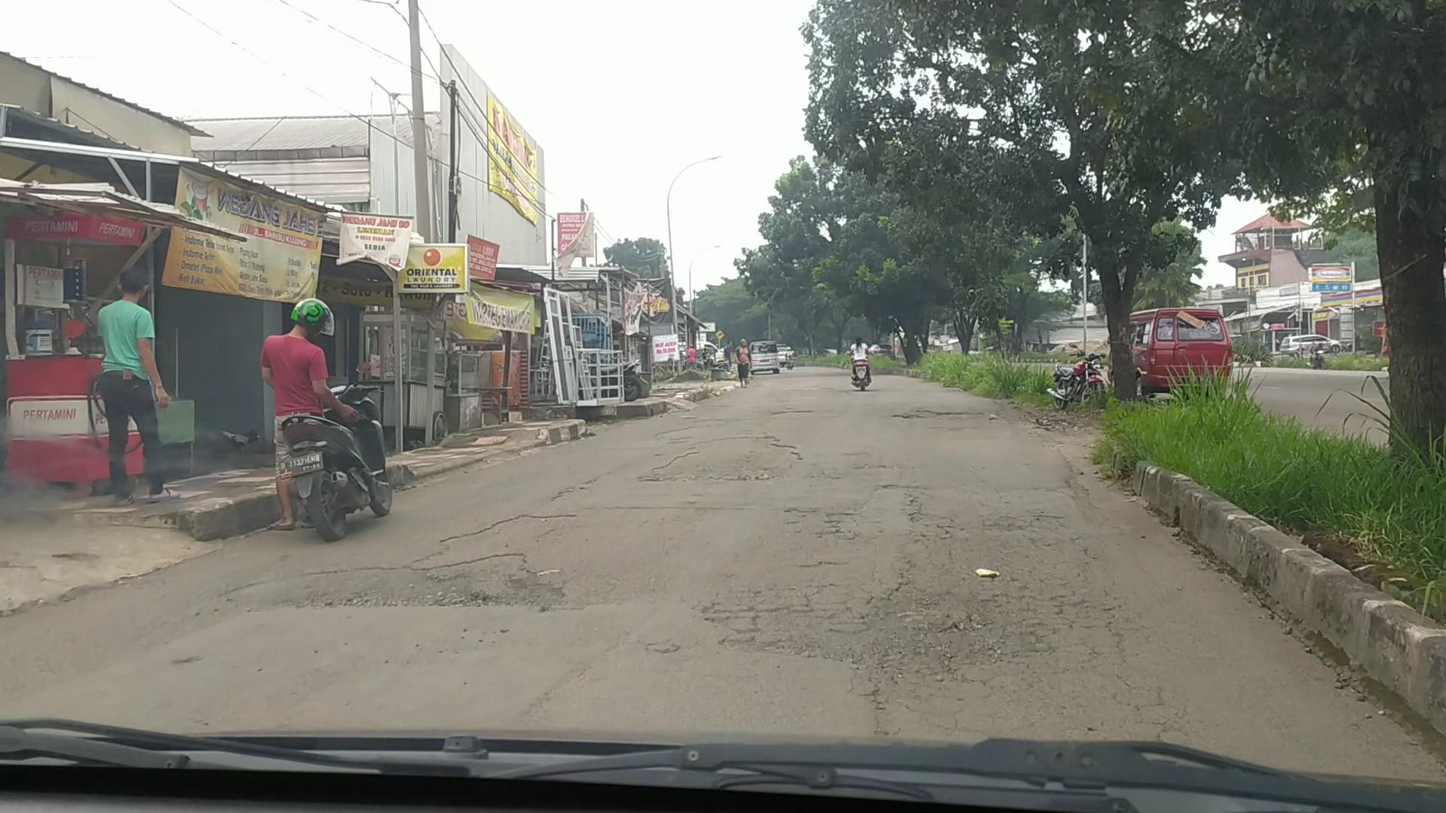pothole: (700, 579, 1043, 680), (214, 552, 564, 612), (417, 513, 578, 562), (644, 436, 804, 483), (891, 407, 985, 422)
